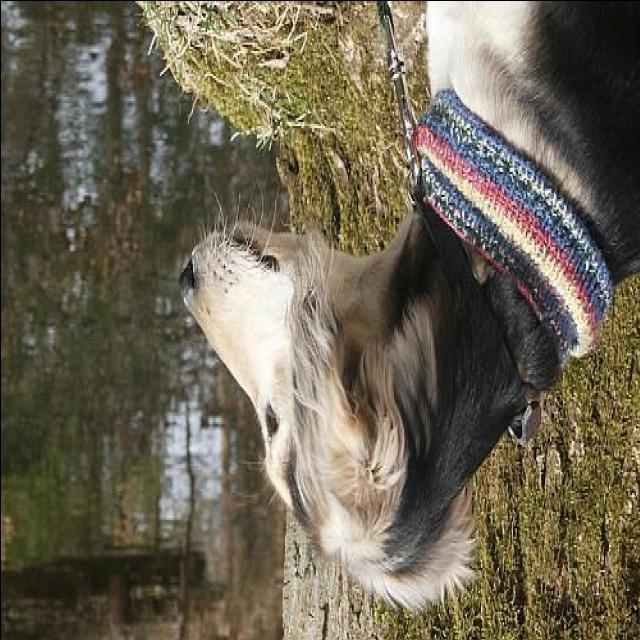saluki: (176, 2, 640, 606)
